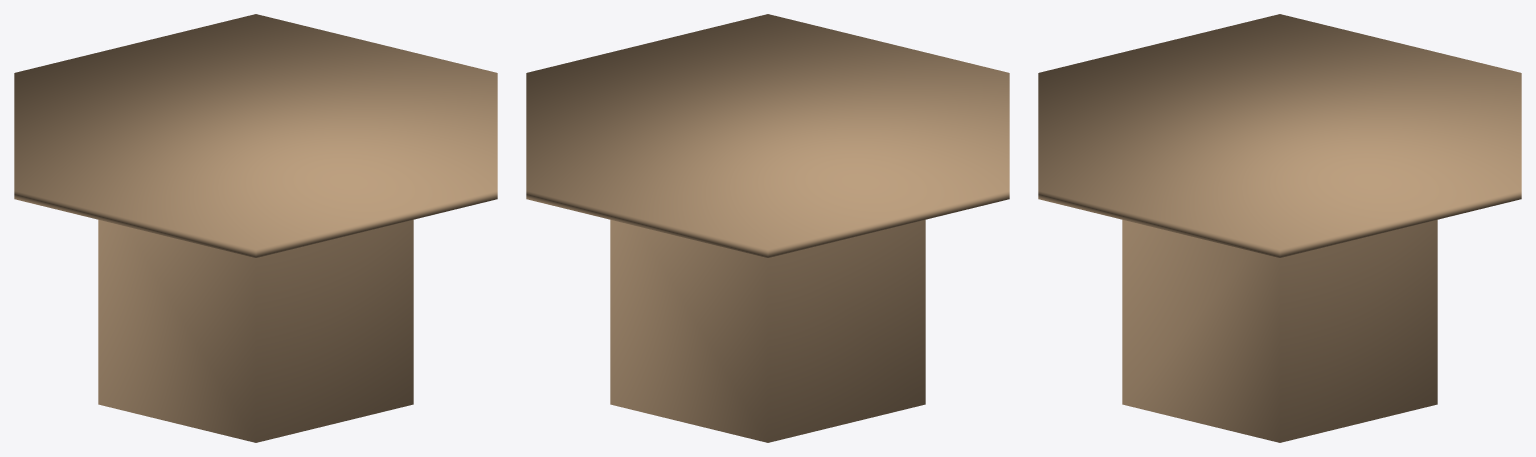
Rendered from table.glb.
3 renders of one model, left to right at view 1: azimuth 30°, elevation 25°; view 2: azimuth 150°, elevation 25°; view 3: azimuth 270°, elevation 25°, orthographic.
Parts seen in each view (by area): view 1: Node; view 2: Node; view 3: Node.
Part boxes in pixels (x1=…): Node: x1=14, y1=14, x2=497, y2=442; Node: x1=526, y1=14, x2=1009, y2=442; Node: x1=1038, y1=14, x2=1521, y2=442.
Bounding box in the file's own units: 1.79 × 0.8292 × 1.55.
